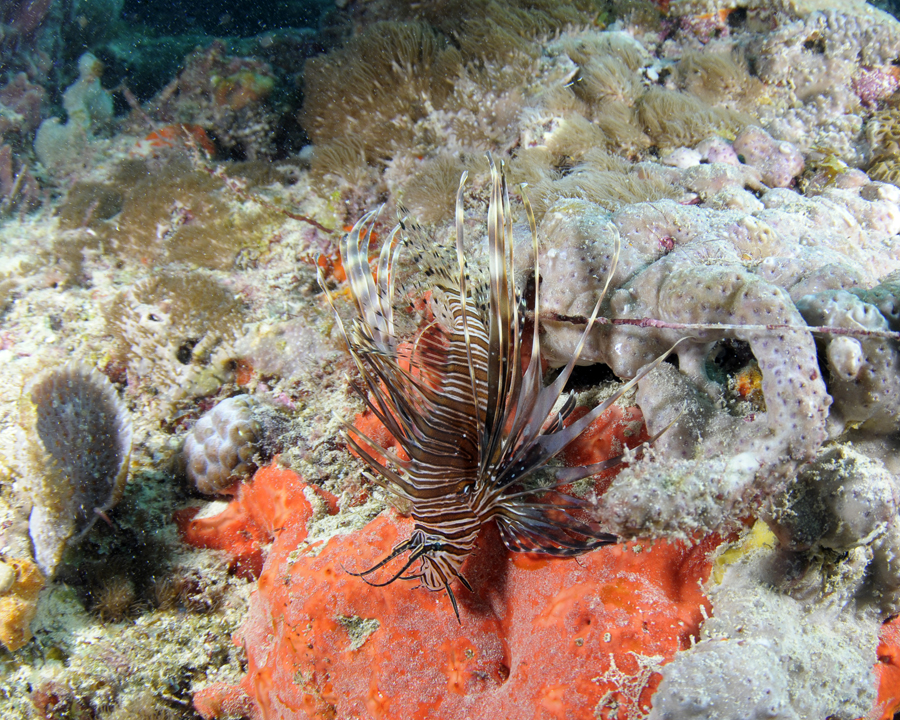Pterois_volitans: (234, 184, 755, 657)
